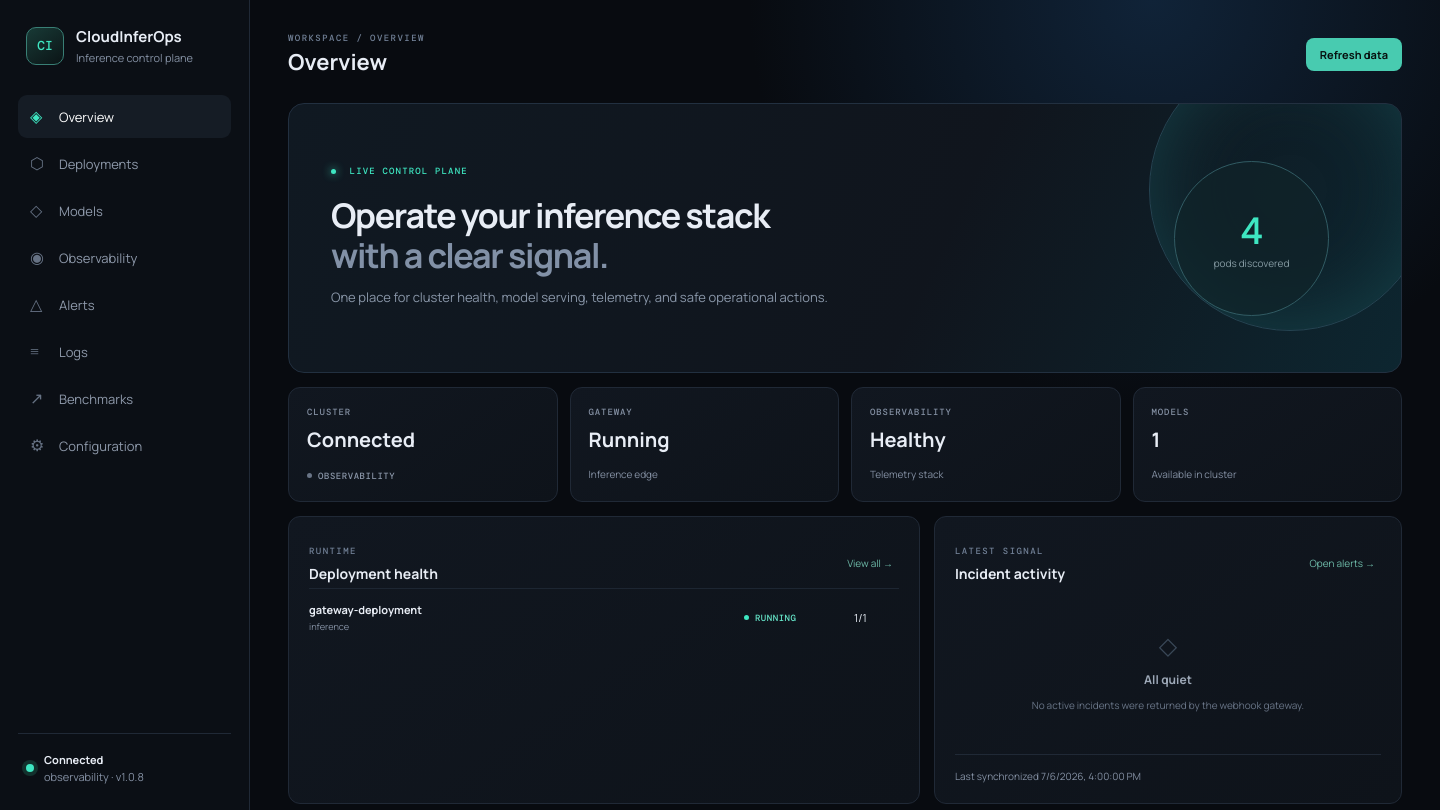
it: CloudInferOps portal › loads live overview and navigates across portal pages
Check: the 2nd text "Connected" is shown, box [44,752,103,767]
Check: the text "gateway-deployment" is shown, box [309,602,422,617]
Click the button "◇ Models".
click(124, 210)  # box [18,189,231,232]
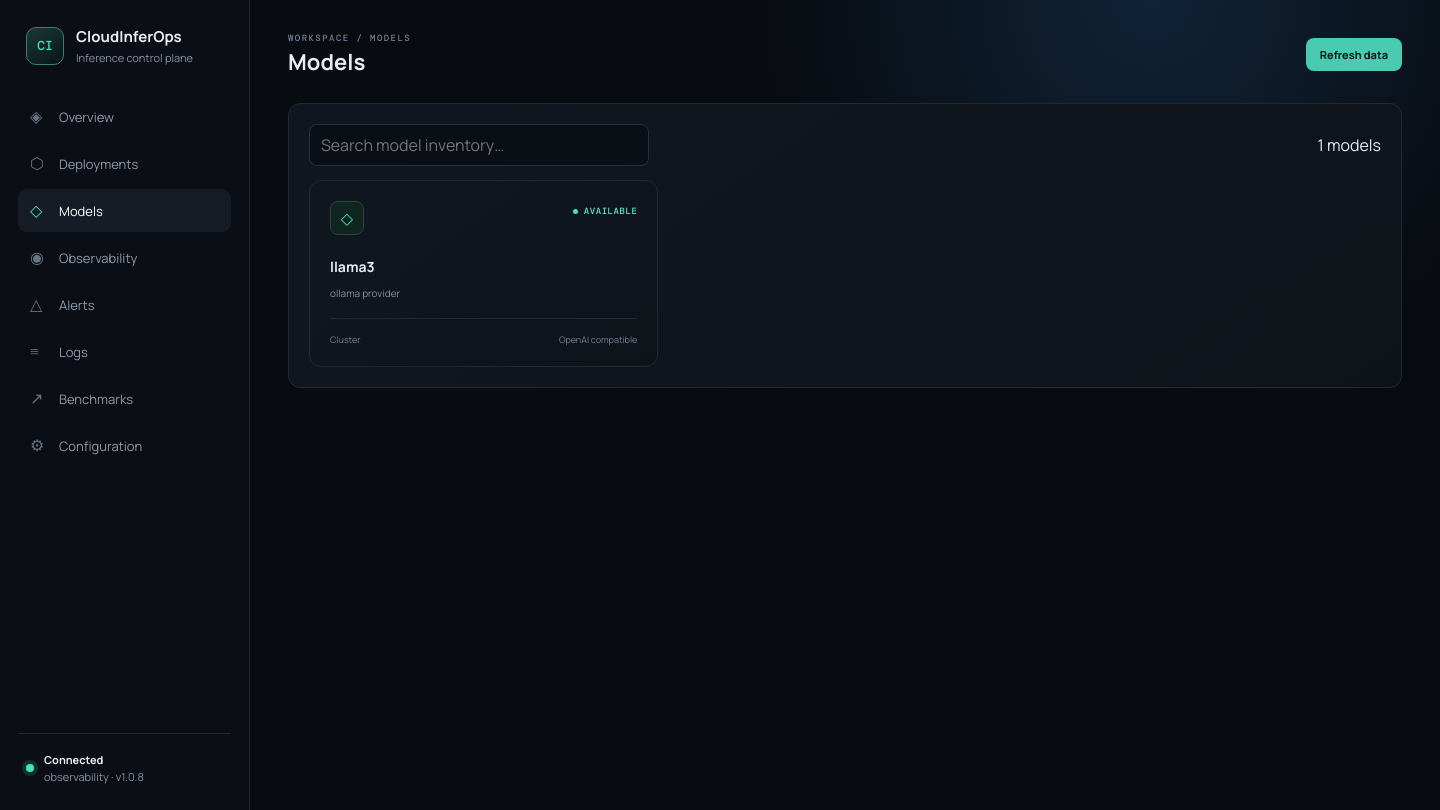
Check: the heading "llama3" is shown, box [330,257,375,276]
Click the button "≡ Logs".
click(124, 352)  # box [18,330,231,373]
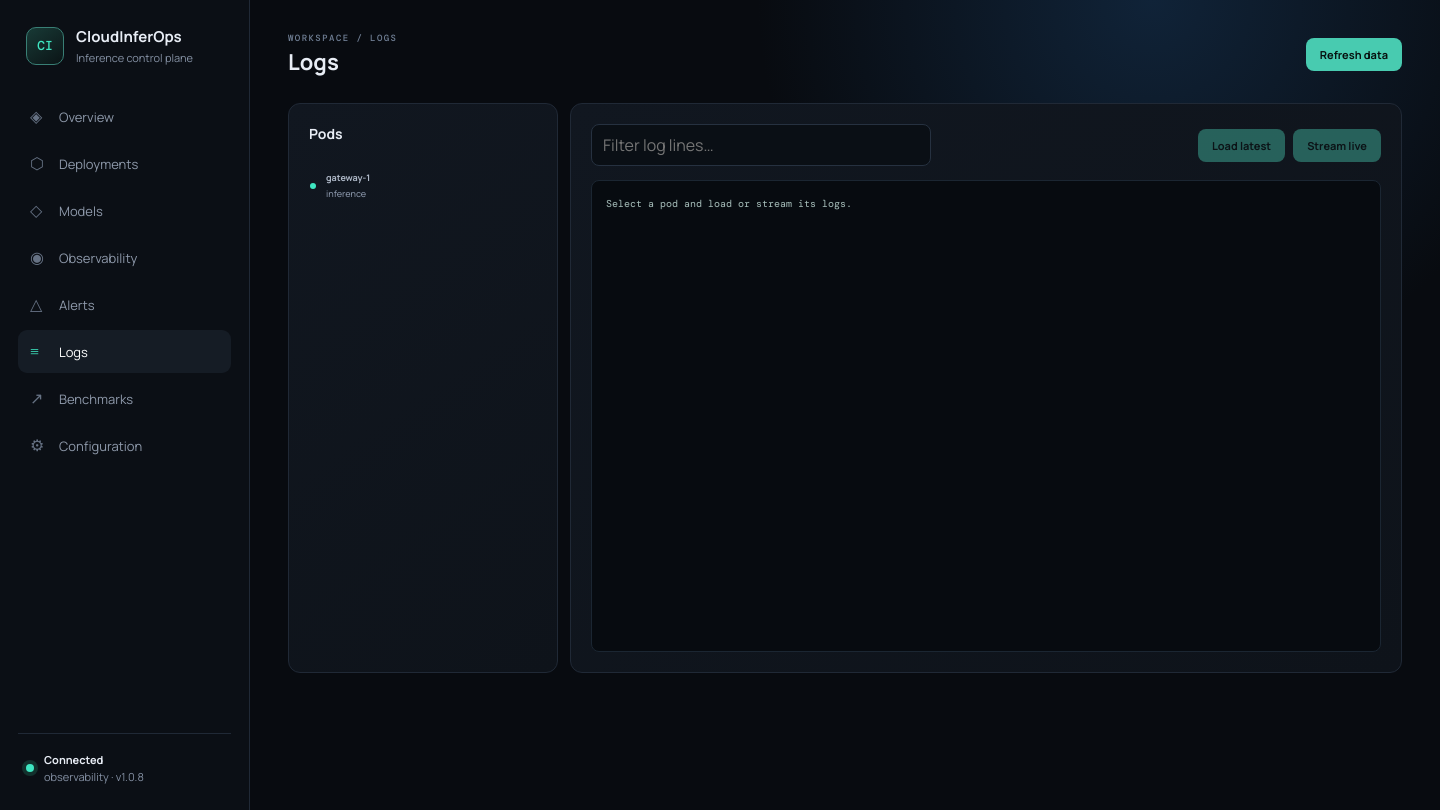
Check: the text "gateway-1" is shown, box [326,171,370,184]
